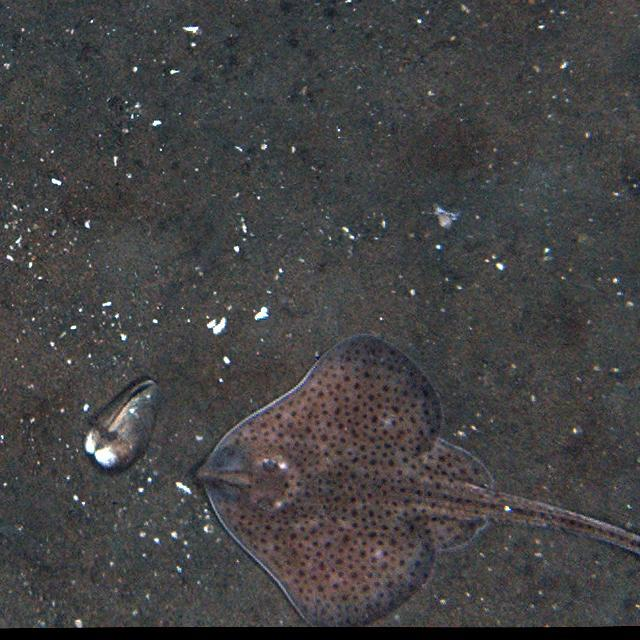skate: (203, 331, 640, 628)
